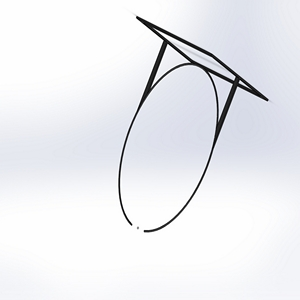circle: (115, 16, 270, 234)
